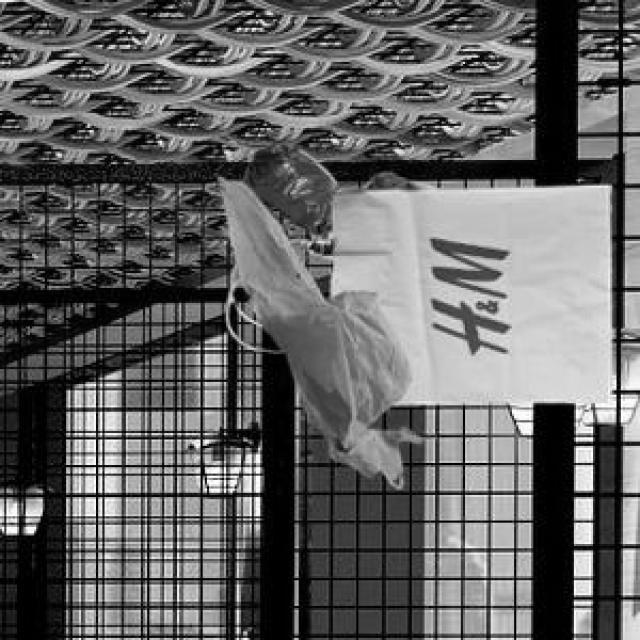miscellaneous trash: (239, 141, 413, 228)
paper: (225, 181, 607, 401)
